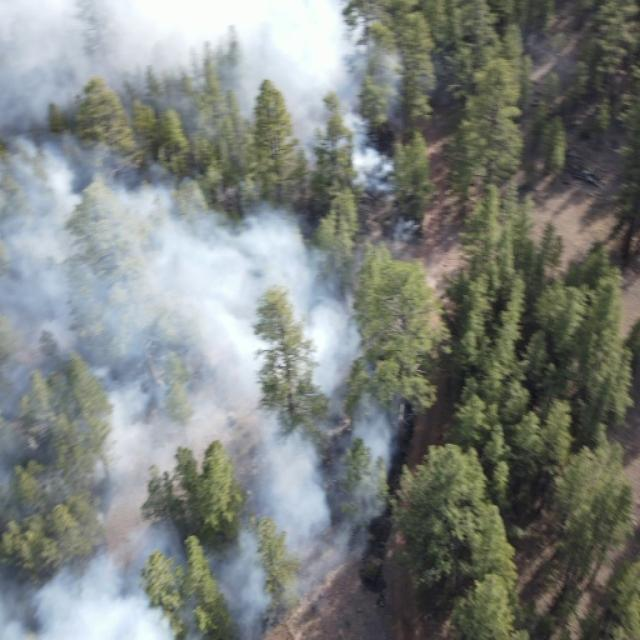smoke: (0, 0, 402, 640), (404, 220, 422, 242)
